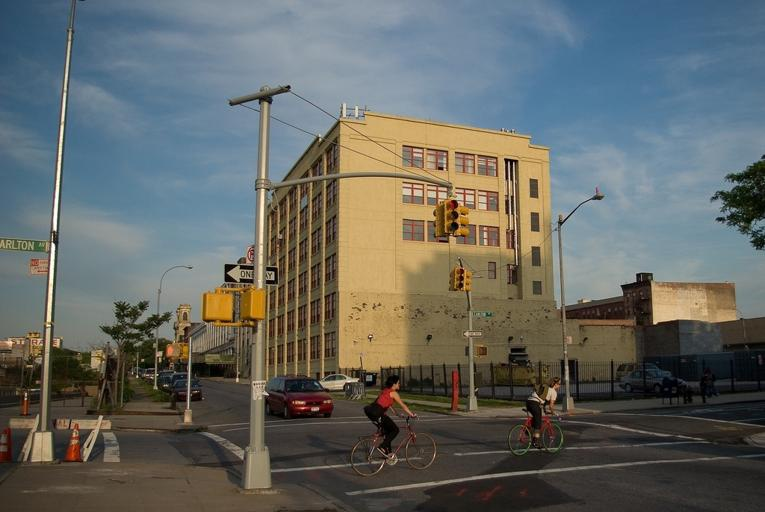non-vehicle: (347, 411, 437, 478), (505, 407, 565, 457)
